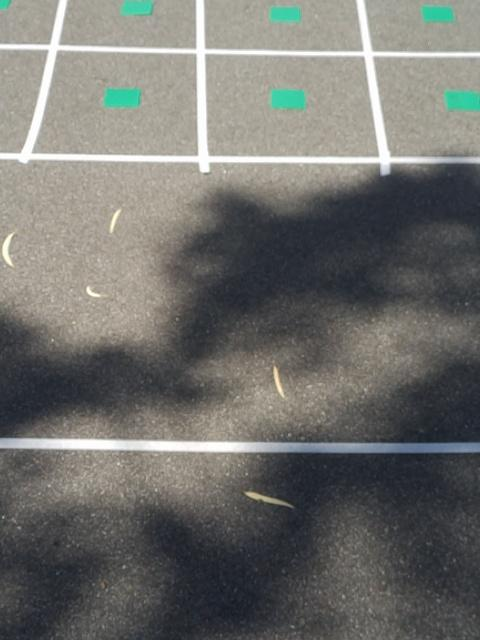weed: (98, 79, 146, 114), (266, 83, 312, 112), (441, 83, 480, 117), (418, 0, 459, 28), (112, 0, 156, 22), (268, 3, 302, 28), (0, 0, 11, 16)
